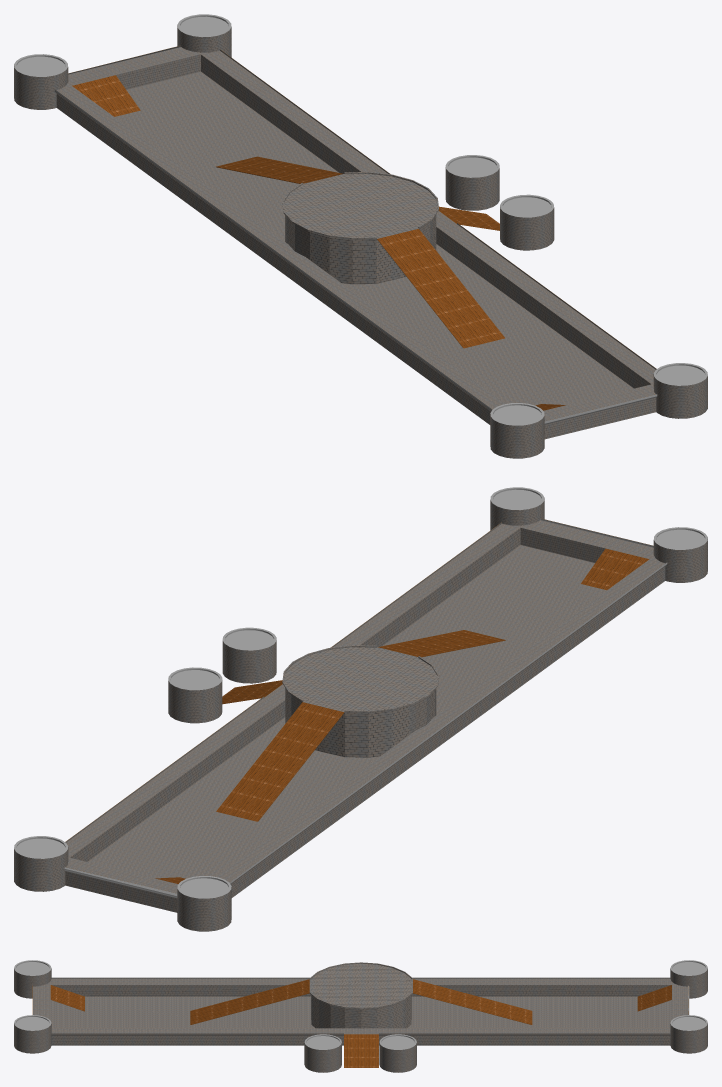
The model's file is Castle_v1.fbx.
3 views of the same model, one above another, from view 1: azimuth 30°, elevation 25°; view 2: azimuth 150°, elevation 25°; view 3: azimuth 270°, elevation 25° (orthographic). The views are drawn at different scales.
Visible parts, largest first — view 1: pCube5, pCylinder2, pCube6, pCylinder3, pCylinder7, pCylinder6, pCylinder1, pCylinder4, pCylinder5, pCube7, pCube10, pCube8; view 2: pCube5, pCylinder2, pCube7, pCylinder7, pCylinder6, pCylinder4, pCylinder5, pCylinder3, pCylinder1, pCube6, pCube9, pCube8; view 3: pCube5, pCylinder2, pCube6, pCube7, pCylinder1, pCylinder5, pCylinder6, pCylinder7, pCube8, pCylinder3, pCylinder4, pCube9 (+1 smaller).
Part boxes in pixels (<box>): pCube5: <box>54,45,657,439</box>; pCylinder2: <box>282,172,438,284</box>; pCube6: <box>377,229,504,348</box>; pCylinder3: <box>490,403,544,458</box>; pCylinder7: <box>500,194,554,250</box>; pCylinder6: <box>445,155,499,210</box>; pCylinder1: <box>653,363,707,418</box>; pCylinder4: <box>14,54,68,109</box>; pCylinder5: <box>177,14,231,57</box>; pCube7: <box>216,156,343,183</box>; pCube10: <box>72,75,140,116</box>; pCube8: <box>439,206,499,230</box>; pCube5: <box>64,518,667,912</box>; pCylinder2: <box>282,645,439,757</box>; pCube7: <box>216,702,344,821</box>; pCylinder7: <box>222,627,276,683</box>; pCylinder6: <box>168,667,222,723</box>; pCylinder4: <box>177,876,231,931</box>; pCylinder5: <box>14,836,68,891</box>; pCylinder3: <box>653,527,707,582</box>; pCylinder1: <box>490,487,544,530</box>; pCube6: <box>378,630,505,657</box>; pCube9: <box>581,548,649,590</box>; pCube8: <box>222,680,282,704</box>; pCube5: <box>32,977,689,1045</box>; pCylinder2: <box>309,962,412,1028</box>; pCube6: <box>190,979,309,1024</box>; pCube7: <box>413,979,532,1024</box>; pCylinder1: <box>14,1015,51,1053</box>; pCylinder5: <box>670,1015,707,1053</box>; pCylinder6: <box>379,1034,416,1072</box>; pCylinder7: <box>304,1034,341,1072</box>; pCube8: <box>344,1034,378,1067</box>; pCylinder3: <box>14,960,51,998</box>; pCylinder4: <box>670,960,707,998</box>; pCube9: <box>50,985,84,1011</box>.
Size of the model in its own units: 232 by 43.43 by 757.
